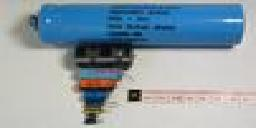Electrolytic-Capacitor: (17, 1, 249, 48)
